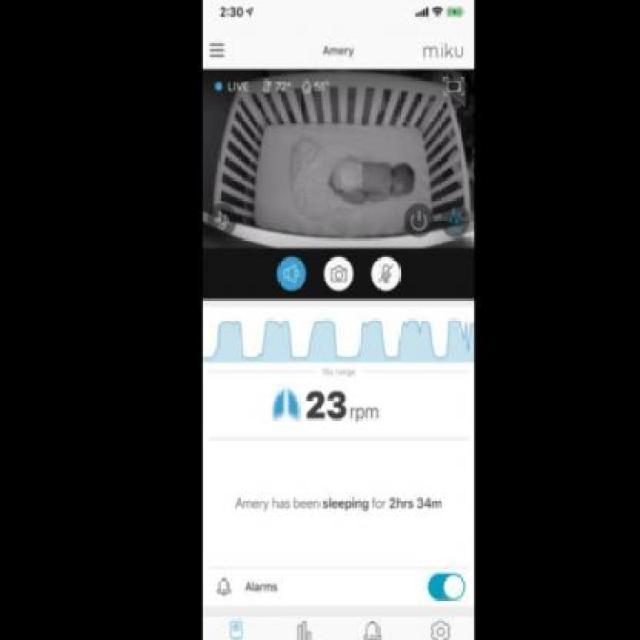baby: (328, 158, 414, 208)
